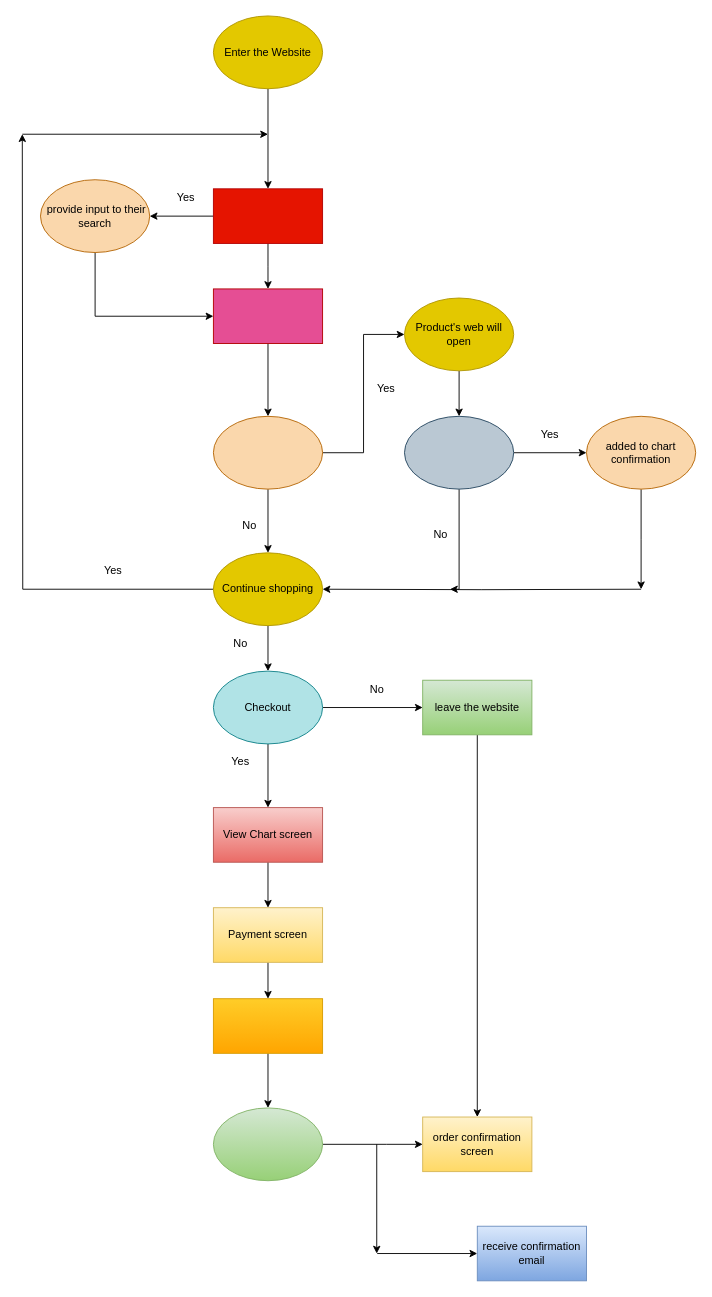
Image size: 712x1297. Some labels were removed from this diagram. The shapes that lost their labels are listed below. From the top down, each one's box as (x1, y1, x2, y2) in pixels, then its label:
(212, 188, 323, 243): Searching for a product
(212, 288, 323, 344): looking over the products
(212, 415, 323, 489): viewing a special product
(404, 415, 514, 489): Add to the chart
(212, 998, 323, 1053): give payment information
(212, 1107, 323, 1181): Pay
